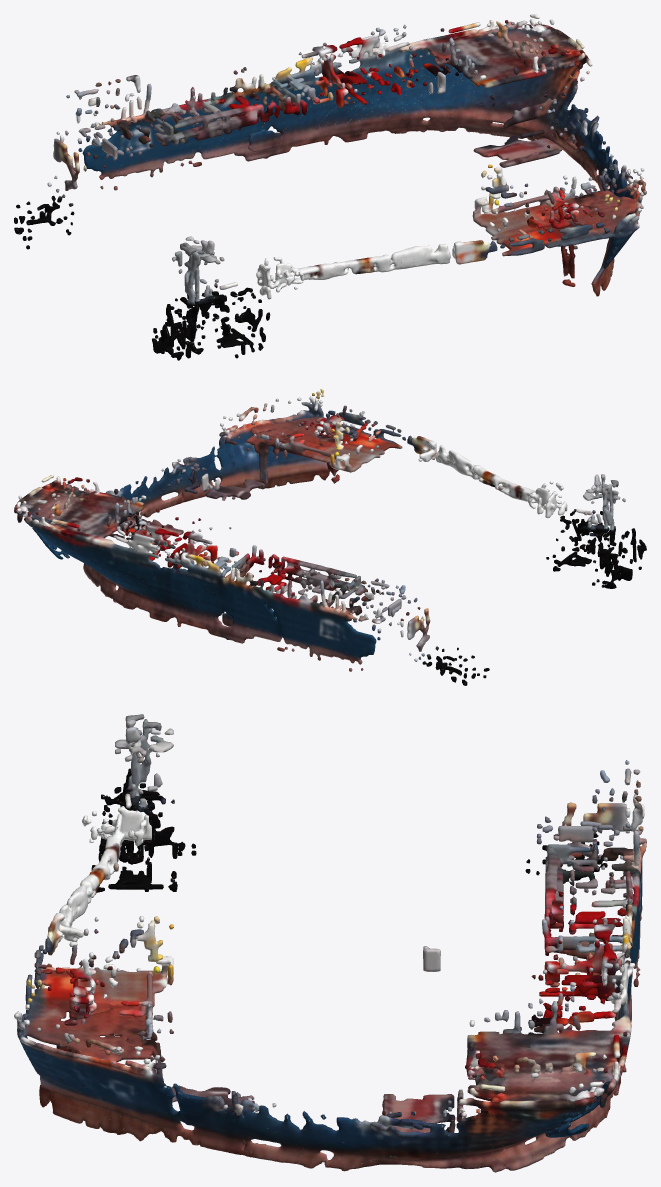
File: lm+sm0.8+slat-mean_2026-05-06T114309.490.glb
3 renders of one model, top to bottom at view 1: azimuth 30°, elevation 25°; view 2: azimuth 150°, elevation 25°; view 3: azimuth 270°, elevation 25°, orthographic. The views are drawn at different scales.
Parts seen in each view (by area): view 1: world; view 2: world; view 3: world.
Boxes of the visible parts, x1,y1,x2,y2 form: world: [14, 14, 646, 360]; world: [14, 389, 646, 685]; world: [14, 714, 646, 1172].
Bounding box in the file's own units: 0.3028 × 0.0609 × 0.2232.
1 material, 1 textured.
